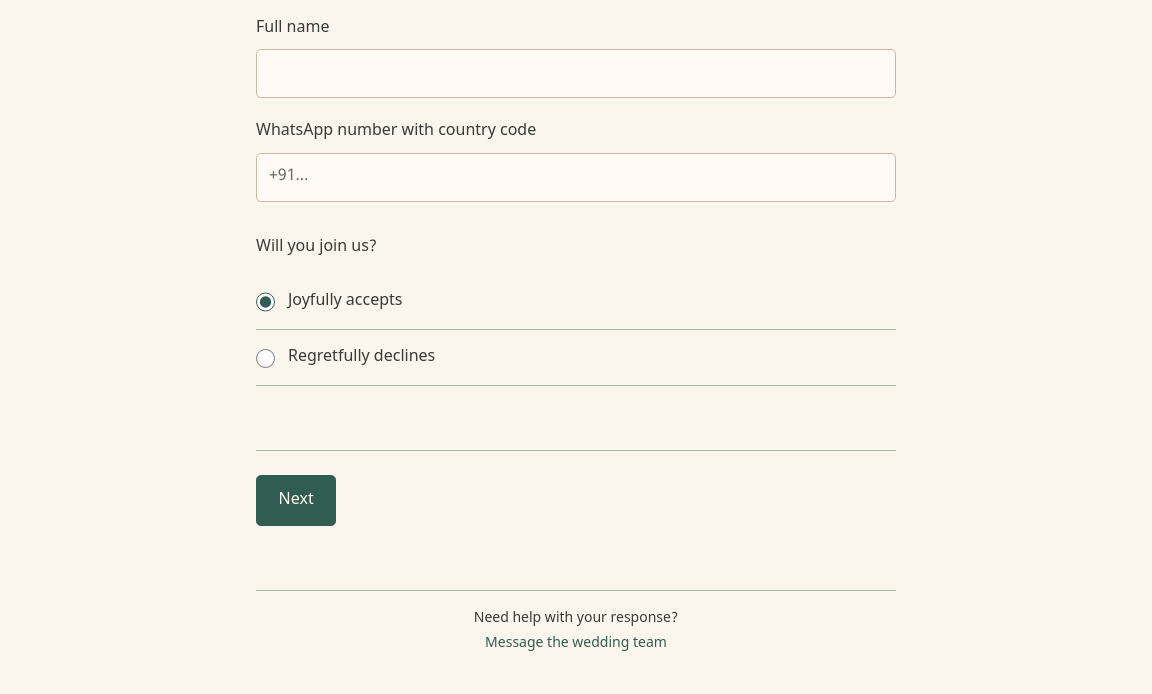
Test: RSVP form › focuses the first invalid field and localizes domain errors
(page scrolled)
Click the button "Next" at [296, 501], box left=256, top=475, right=336, bottom=526
(page scrolled)
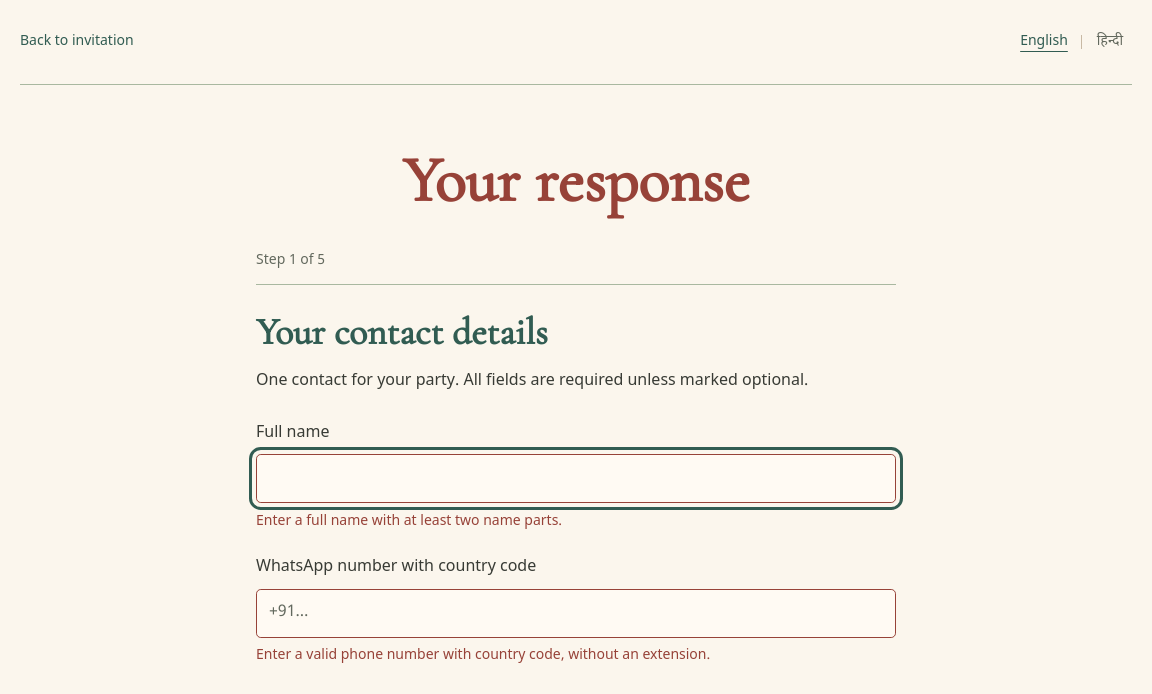
Expected: the text "Enter a full name with at least two name parts." is shown, left=256, top=512, right=562, bottom=531
Click the button "हिन्दी" at [1110, 42], box left=1088, top=20, right=1132, bottom=64
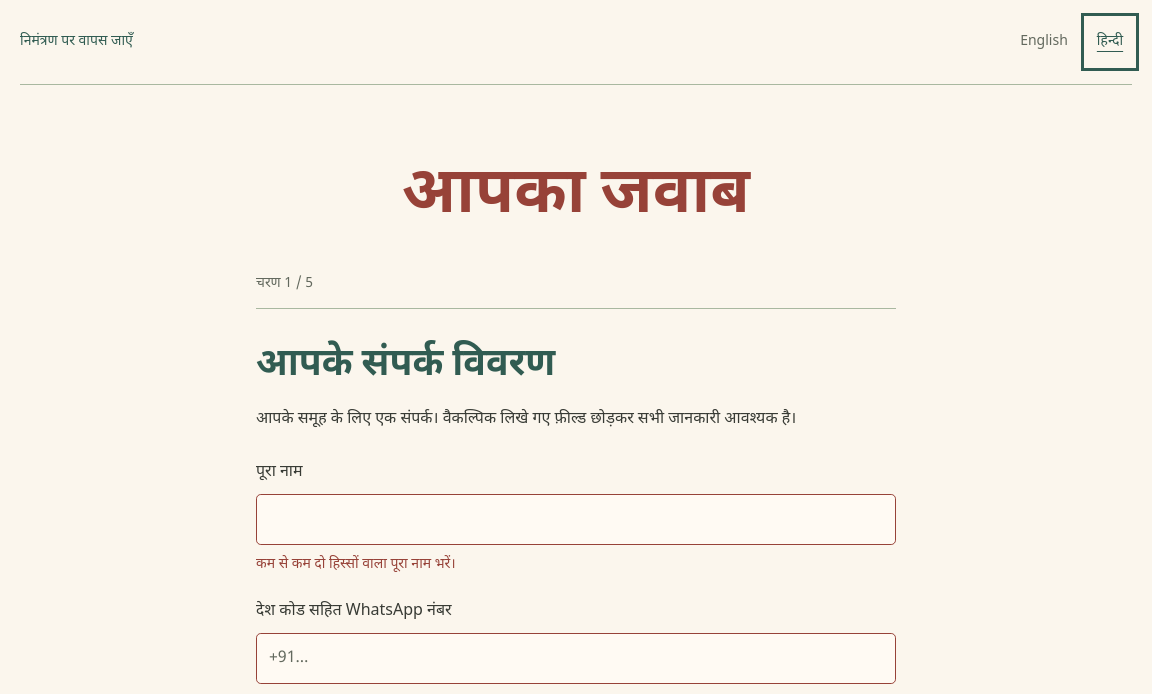
Expected: the text "at least two name parts" is gone
